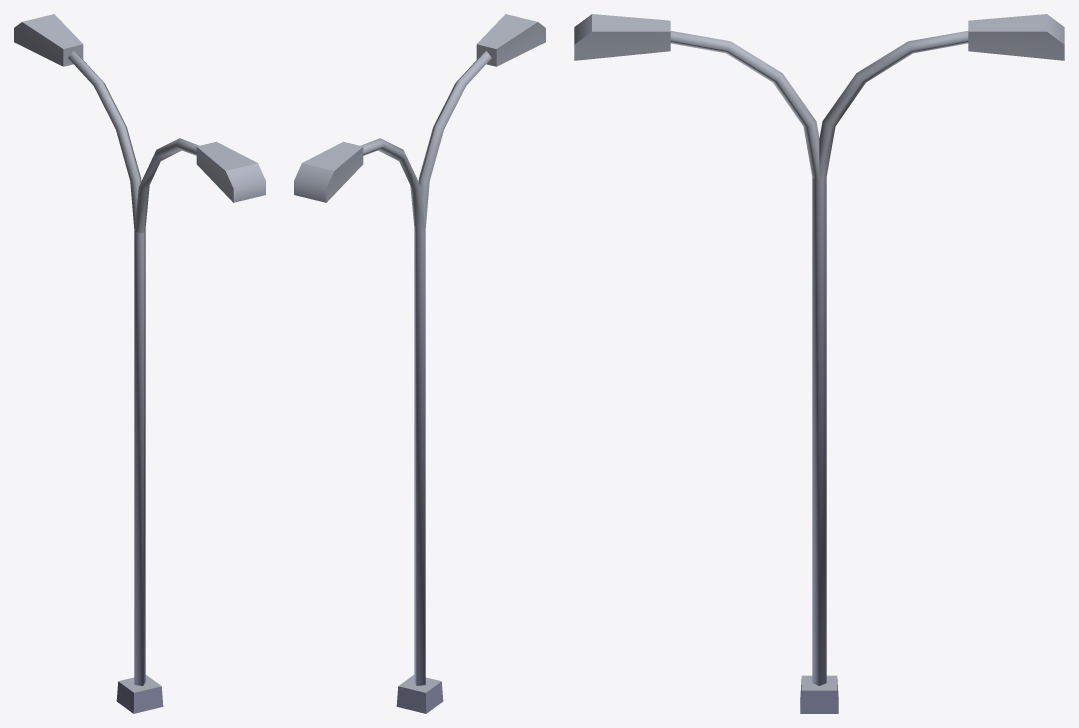
The model's file is Prop_ligthpole2.glb.
3 views of the same model, side by side, from view 1: azimuth 30°, elevation 25°; view 2: azimuth 150°, elevation 25°; view 3: azimuth 270°, elevation 25° (orthographic). The views are drawn at different scales.
Parts seen in each view (by area): view 1: Prop_ligthpole2; view 2: Prop_ligthpole2; view 3: Prop_ligthpole2.
Part boxes in pixels (x1,y1,x2,y2): Prop_ligthpole2: (14, 14, 265, 713); Prop_ligthpole2: (294, 14, 545, 713); Prop_ligthpole2: (574, 14, 1064, 713).
Size of the model in its own units: 0.0684 by 1.23 by 0.8025.
